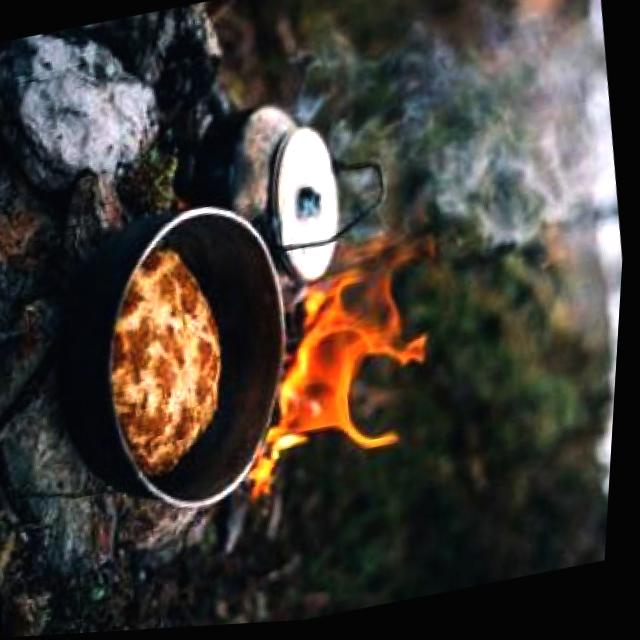no_helmet: (237, 223, 476, 482)
